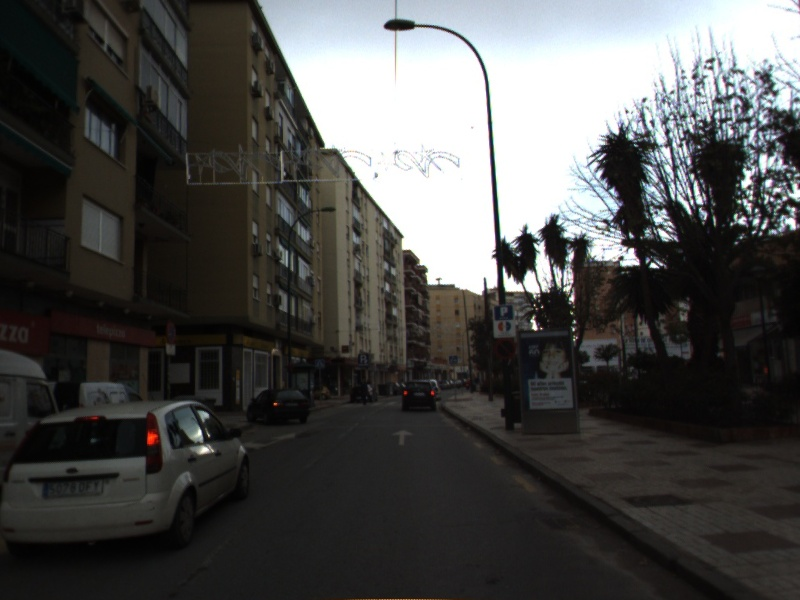STRAIGHT: (390, 427, 416, 448)
STRAIGHT_LEFT: (241, 431, 297, 452)
